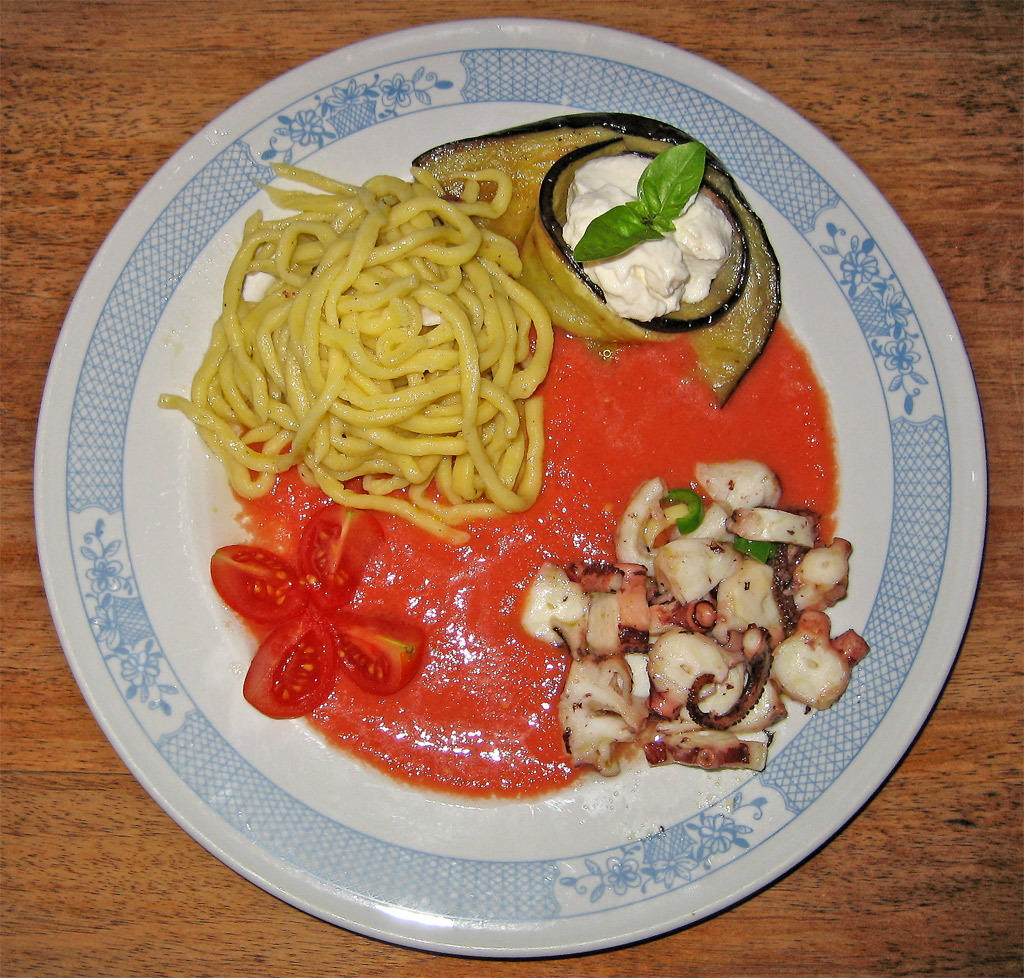pasta: (193, 158, 574, 528)
